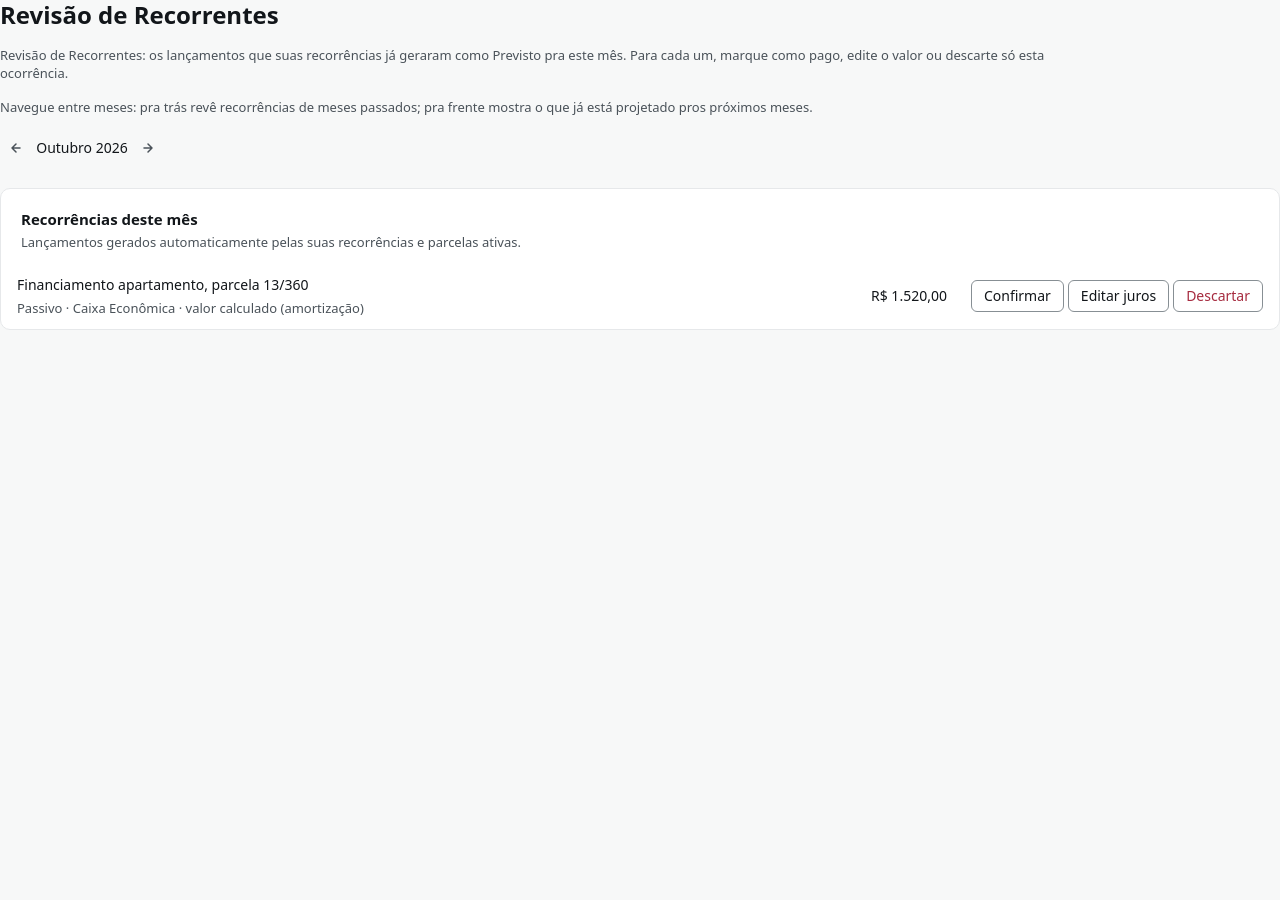
Revisão de Recorrentes — linha de Parcela de Passivo (Figma 10:2, nó 144:6) › Figma 34:2 nós 34:35/34:36 — "Descartar" abre o diálogo com o texto literal do frame
Click the button "Descartar".
click(1218, 296)  # box x1=1173 y1=280 x2=1263 y2=312
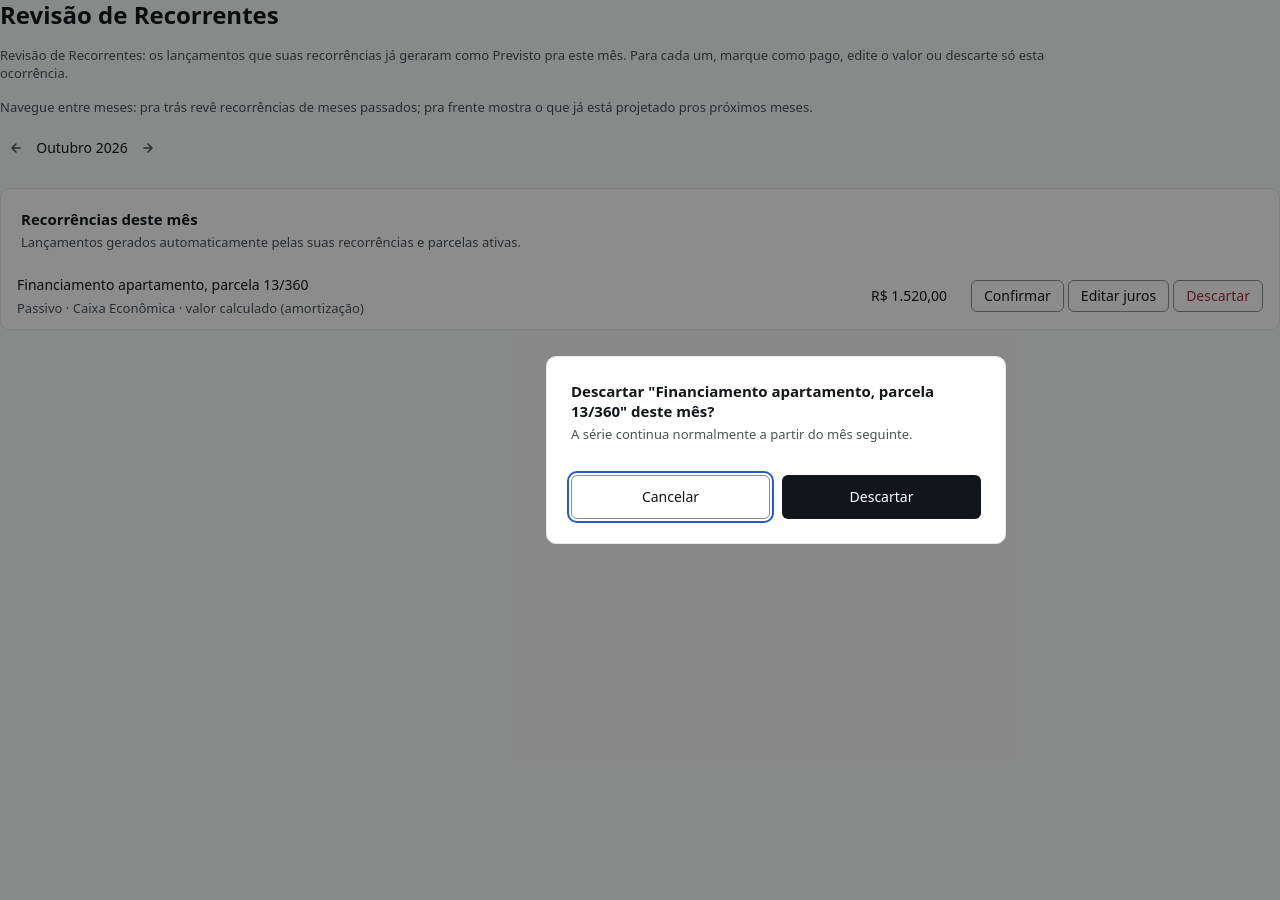
expect the heading "Descartar \"Financiamento apartamento, parcela 13/360\" deste mês?" is shown: met, box x1=571 y1=381 x2=981 y2=421
expect the text "A série continua normalmente a partir do mês seguinte." is shown: met, box x1=571 y1=425 x2=913 y2=443
expect the button "Cancelar" is shown: met, box x1=571 y1=475 x2=770 y2=519
